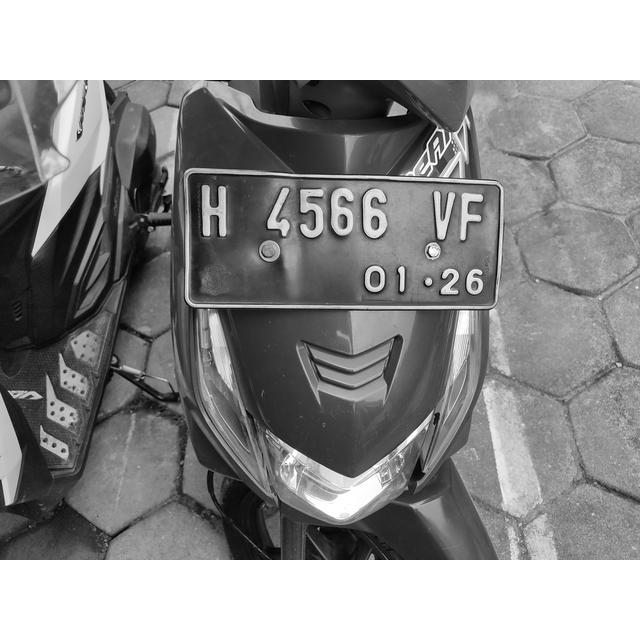license: (196, 177, 490, 303)
